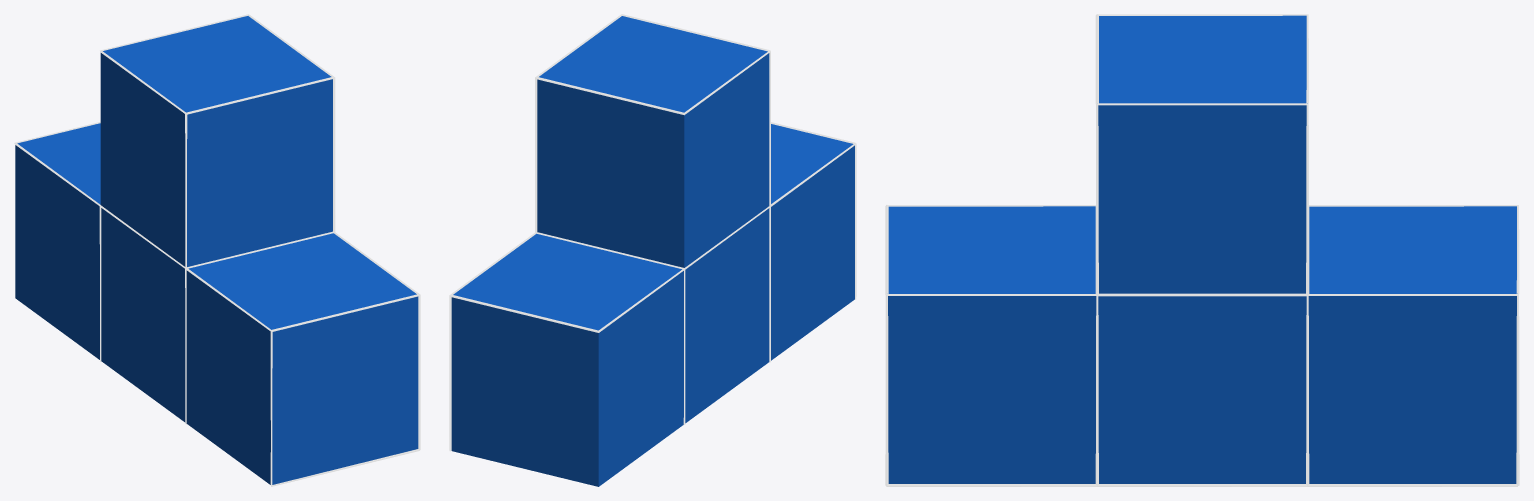
Rendered from tDetailBlue.glb.
3 views of the same model, side by side, from view 1: azimuth 30°, elevation 25°; view 2: azimuth 150°, elevation 25°; view 3: azimuth 270°, elevation 25° (orthographic). The views are drawn at different scales.
Visible parts, largest first — view 1: Lines.002, Lines.001, Lines.003, Lines; view 2: Lines.003, Lines.001, Lines.002, Lines; view 3: Lines.001, Lines.003, Lines.002, Lines.
Boxes of the visible parts, left/top/right/bottom form: Lines.002: left=185, top=231, right=420, bottom=486; Lines.001: left=100, top=14, right=335, bottom=269; Lines.003: left=14, top=122, right=101, bottom=361; Lines: left=100, top=205, right=333, bottom=424; Lines.003: left=449, top=232, right=685, bottom=486; Lines.001: left=535, top=14, right=770, bottom=267; Lines.002: left=770, top=122, right=856, bottom=360; Lines: left=536, top=206, right=770, bottom=423; Lines.001: left=1095, top=14, right=1309, bottom=296; Lines.003: left=1306, top=205, right=1519, bottom=486; Lines.002: left=885, top=205, right=1098, bottom=486; Lines: left=1095, top=206, right=1309, bottom=486.
Bounding box in the file's own units: 2.03 × 4.03 × 6.03.
